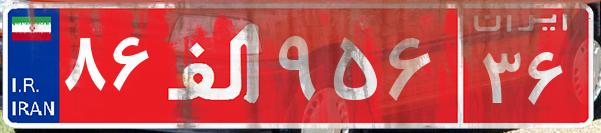3: (475, 38, 525, 113)
5: (330, 28, 385, 110)
6: (385, 28, 445, 110), (110, 28, 158, 105), (525, 38, 570, 115)
8: (57, 26, 110, 107)
9: (273, 28, 330, 110)
الف: (158, 15, 273, 115)
